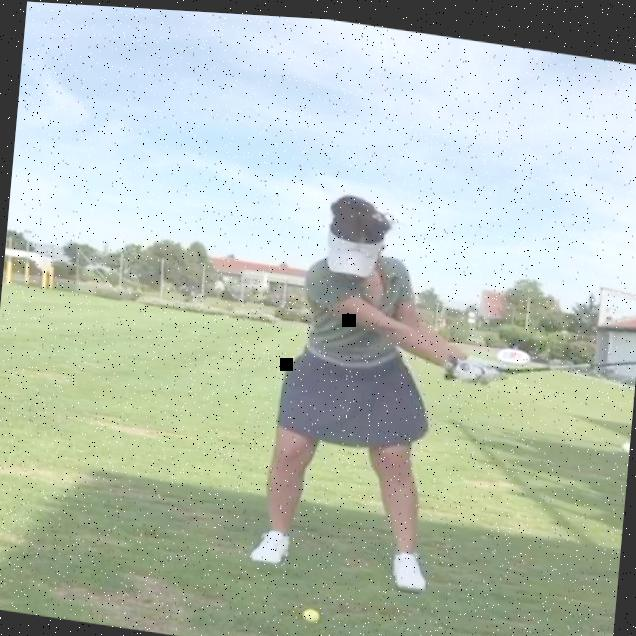GolfBall: (300, 601, 322, 621)
